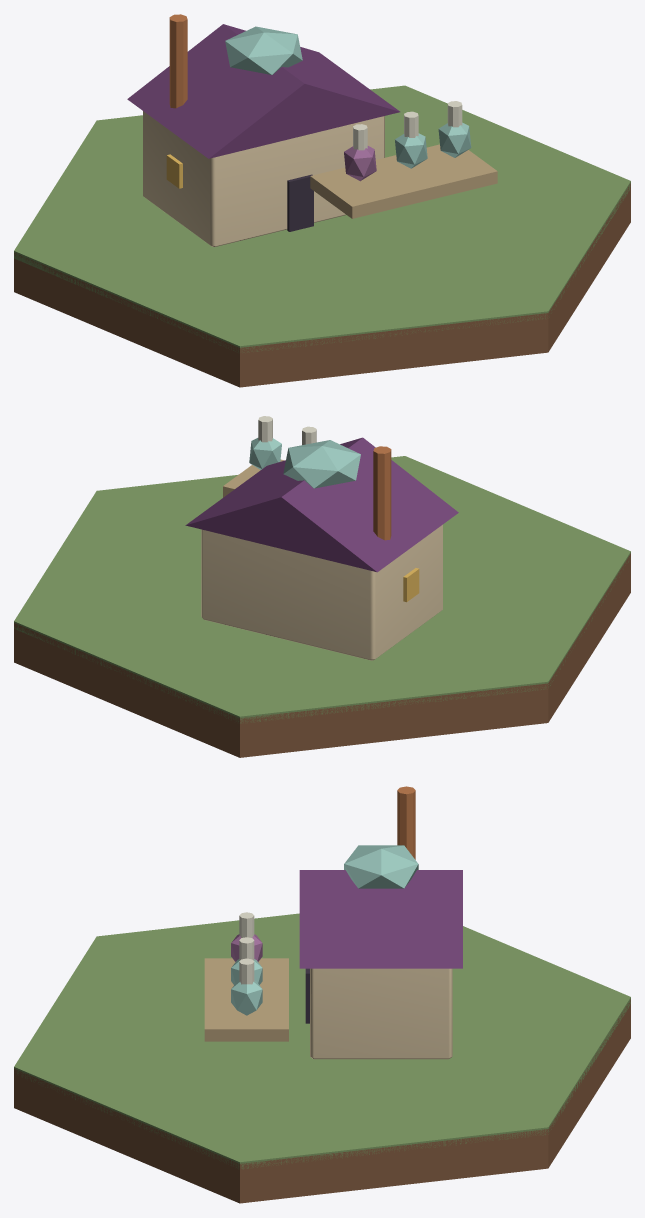
The model's file is yeastLab.glb.
The picture shows the model from 3 angles, top to bottom: view 1: azimuth 30°, elevation 25°; view 2: azimuth 150°, elevation 25°; view 3: azimuth 270°, elevation 25°; orthographic projection.
Parts seen in each view (by area): view 1: Cone.162, Cone.161, gable.006, Cube.046, Cube.049, Icosphere.083, Cone.166, Cube.047, Icosphere.080, Icosphere.082, Icosphere.081; view 2: Cone.162, Cone.161, Cube.046, gable.006, Icosphere.083, Cone.166, Icosphere.082; view 3: Cone.162, Cone.161, gable.006, Cube.046, Cube.049, Icosphere.083, Cone.166, Icosphere.082.
Part boxes in pixels (x1,y1,x2,y2): Cone.162: (14, 85, 630, 352); Cone.161: (14, 183, 630, 387); gable.006: (127, 24, 400, 158); Cube.046: (143, 111, 384, 246); Cube.049: (310, 144, 497, 218); Icosphere.083: (225, 26, 302, 74); Cone.166: (169, 14, 187, 108); Cube.047: (287, 174, 313, 231); Icosphere.080: (344, 146, 376, 181); Icosphere.082: (438, 122, 471, 157); Icosphere.081: (395, 133, 427, 168); Cone.162: (14, 456, 630, 723); Cone.161: (14, 553, 630, 757); Cube.046: (201, 524, 442, 660); gable.006: (185, 437, 458, 572); Icosphere.083: (283, 440, 360, 488); Cone.166: (373, 446, 391, 540); Icosphere.082: (249, 438, 281, 469); Cone.162: (14, 913, 630, 1169); Cone.161: (14, 999, 630, 1203); gable.006: (299, 870, 462, 968); Cube.046: (310, 968, 452, 1059); Cube.049: (204, 958, 288, 1041); Icosphere.083: (344, 845, 418, 888); Cone.166: (397, 786, 415, 859); Icosphere.082: (231, 980, 262, 1015).
Bounding box in the file's own units: 3.67 × 1.53 × 3.67.
